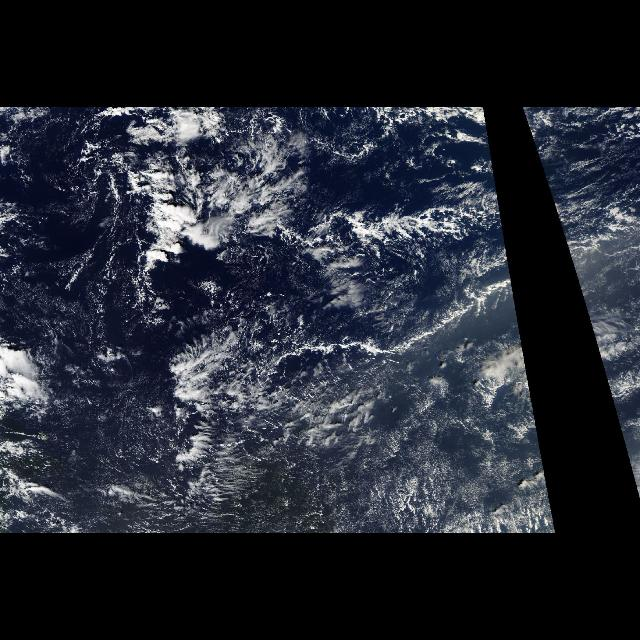Gravel: (110, 425, 176, 529), (217, 430, 285, 528), (379, 468, 456, 528)
